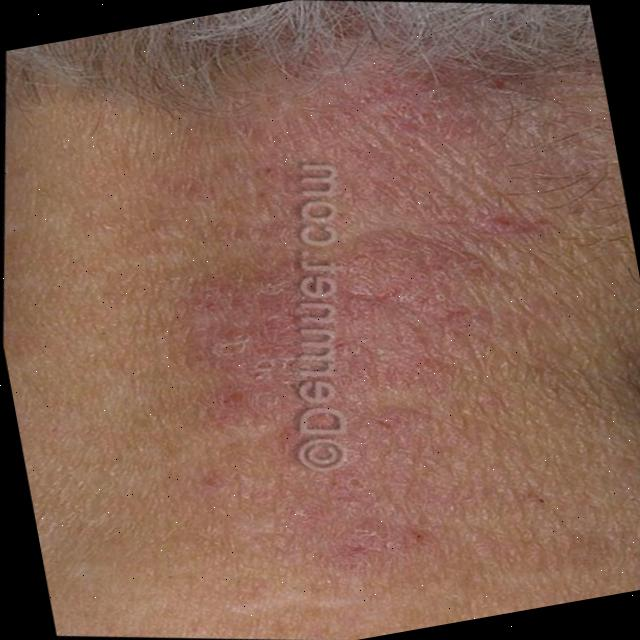Eczema: (93, 40, 615, 640)
